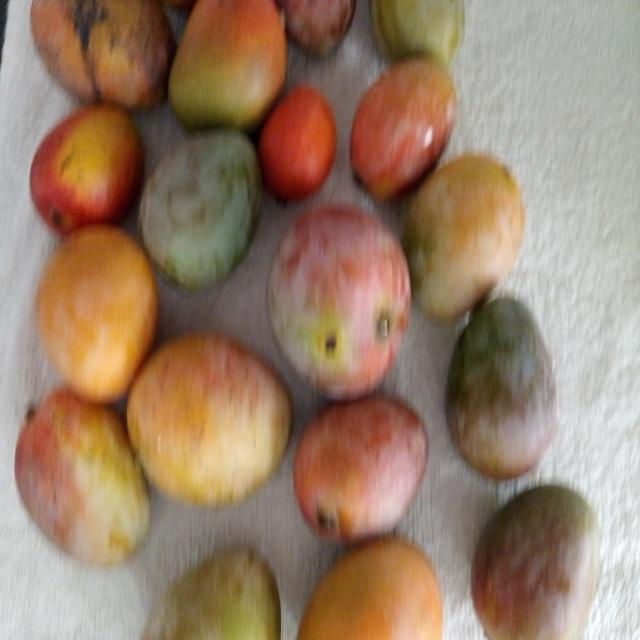mango: (127, 335, 292, 505), (268, 204, 410, 398), (15, 388, 149, 564), (405, 147, 530, 315), (446, 298, 555, 479), (472, 485, 599, 639), (139, 130, 262, 288), (294, 395, 427, 541), (31, 0, 175, 108), (348, 50, 454, 194), (169, 0, 286, 129), (30, 103, 144, 232), (298, 538, 442, 639), (142, 549, 280, 639)
